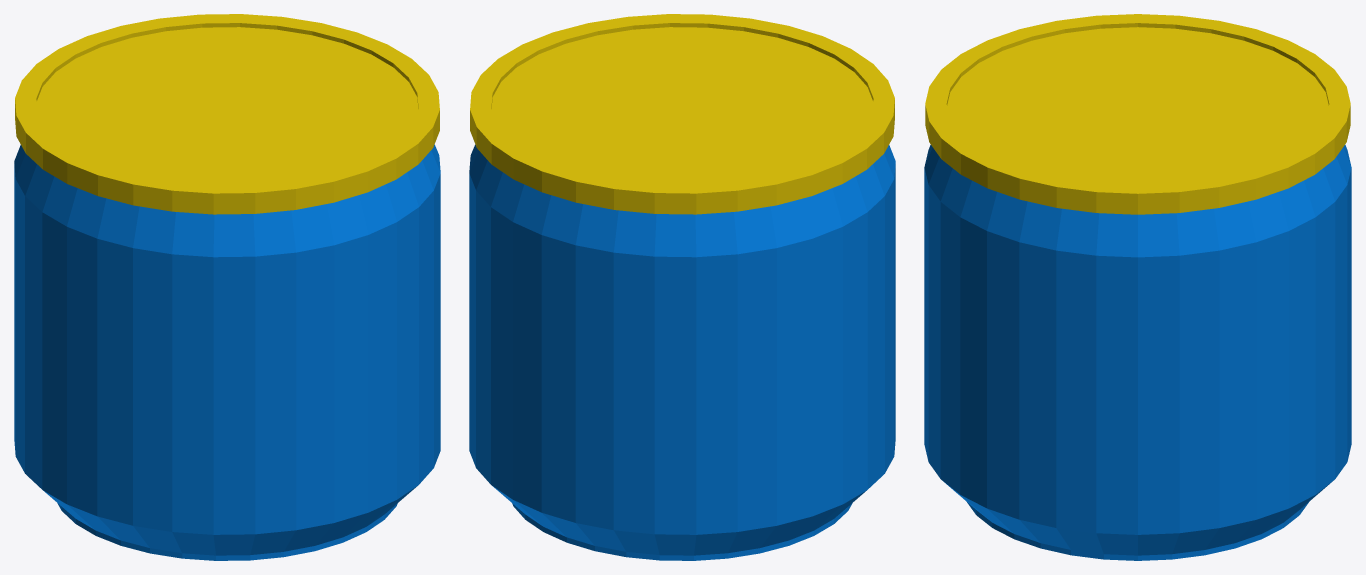
File: jar_002.glb
The picture shows the model from 3 angles, left to right: view 1: azimuth 30°, elevation 25°; view 2: azimuth 150°, elevation 25°; view 3: azimuth 270°, elevation 25°; orthographic projection.
Parts seen in each view (by area): view 1: jar_002; view 2: jar_002; view 3: jar_002.
Part boxes in pixels (x1=…): jar_002: x1=14, y1=14, x2=440, y2=560; jar_002: x1=469, y1=14, x2=895, y2=560; jar_002: x1=924, y1=14, x2=1351, y2=560.
Bounding box in the file's own units: 0.0569 × 0.0564 × 0.0569.
